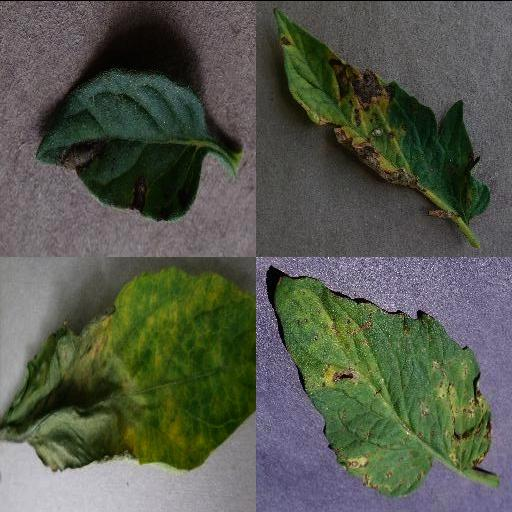Early Blight: (273, 9, 495, 217), (35, 63, 207, 219)
Late Blight: (0, 267, 256, 475)
Septoria: (272, 275, 492, 495)
